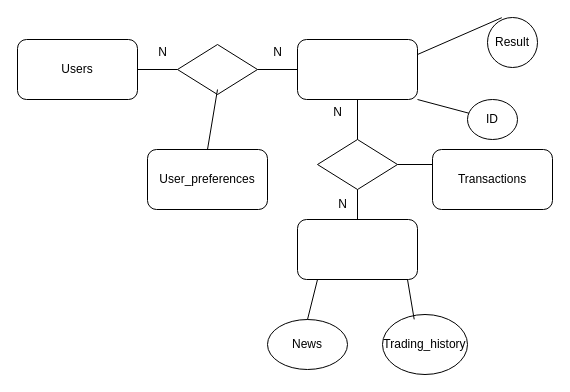
Some shapes in this 570 by 392 pixel diagram are drawn without their labels. Here are the shapes that lost their labels. From the top down, the box of each, then its label:
(176, 44, 258, 94): Cung cấp
(296, 38, 418, 100): Analysis_history
(316, 138, 398, 190): Thuộc
(296, 218, 418, 280): Stocks_data
